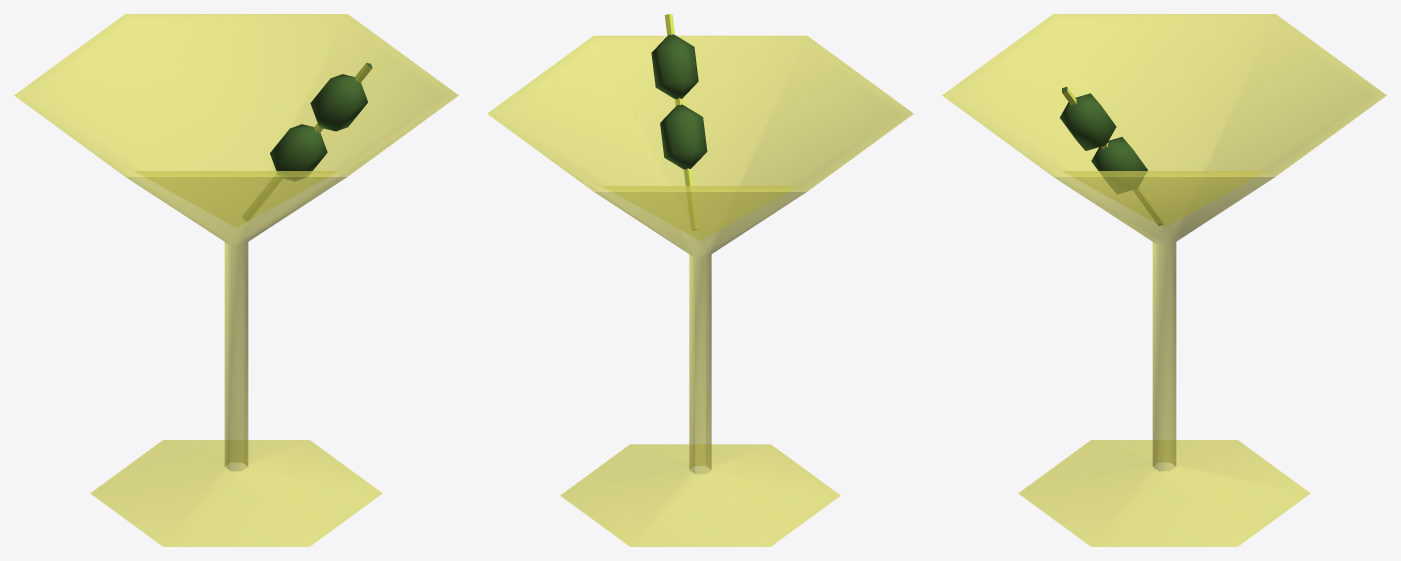
Rendered from Prop_034_Cocktail_A.fbx.
3 views of the same model, side by side, from view 1: azimuth 30°, elevation 25°; view 2: azimuth 150°, elevation 25°; view 3: azimuth 270°, elevation 25° (orthographic). The views are drawn at different scales.
Visible parts, largest first — view 1: Prop_034_Cocktail_A; view 2: Prop_034_Cocktail_A; view 3: Prop_034_Cocktail_A.
Boxes of the visible parts, box(x1,y1,x2,y2) form: Prop_034_Cocktail_A: box(14, 14, 458, 546); Prop_034_Cocktail_A: box(487, 14, 913, 546); Prop_034_Cocktail_A: box(942, 14, 1386, 546).
Bounding box in the file's own units: 0.1369 × 0.175 × 0.1581.
Materials: 2 (1 with a texture image).
